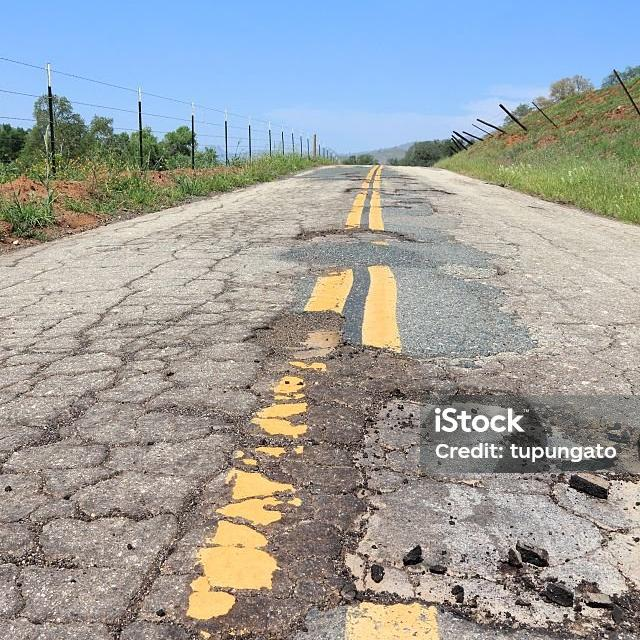lubang_kecil: (231, 301, 362, 375), (269, 215, 422, 254), (339, 174, 442, 216)
retak_kulit_buaya: (0, 289, 246, 640)
retak_memanjang: (541, 241, 640, 391)
